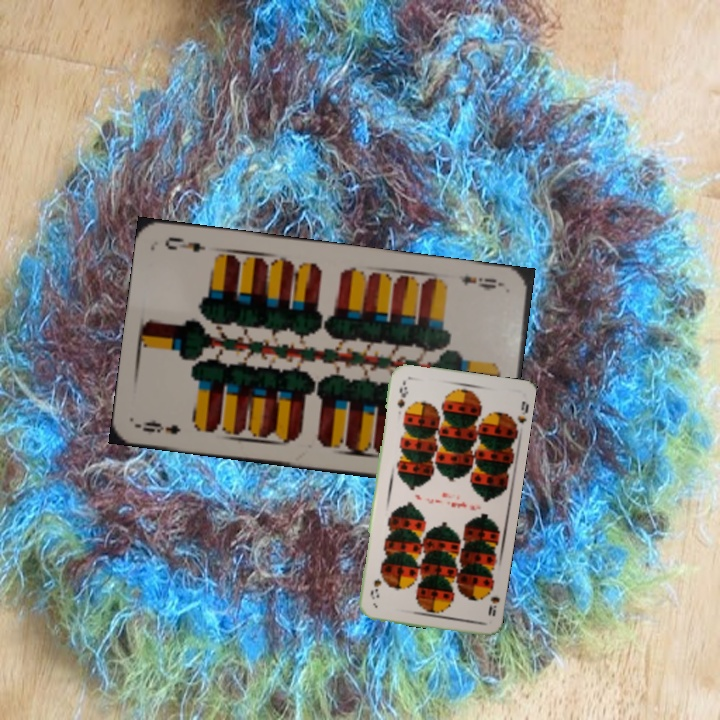E9: (455, 271, 507, 293), (136, 417, 183, 437)
S9: (482, 581, 502, 618), (393, 383, 410, 411)
